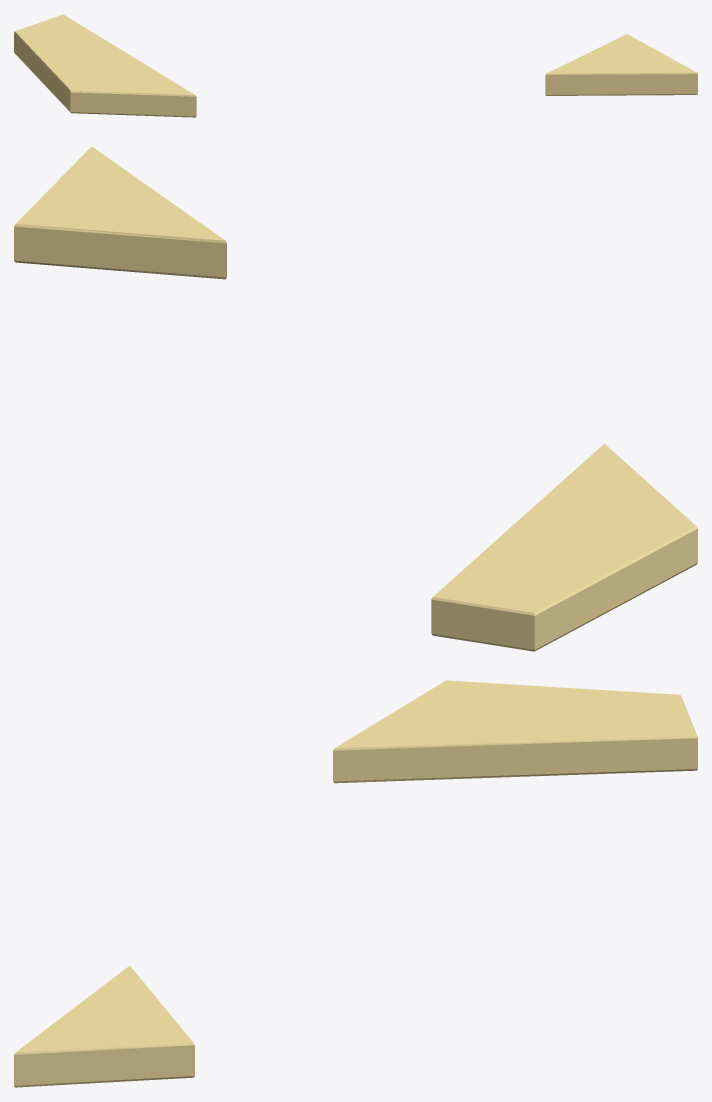
The model's file is COM.glb.
3 renders of one model, top to bottom at view 1: azimuth 30°, elevation 25°; view 2: azimuth 150°, elevation 25°; view 3: azimuth 270°, elevation 25°, orthographic. The views are drawn at different scales.
Size of the model in its own units: 1.55 by 0.068 by 1.2.
